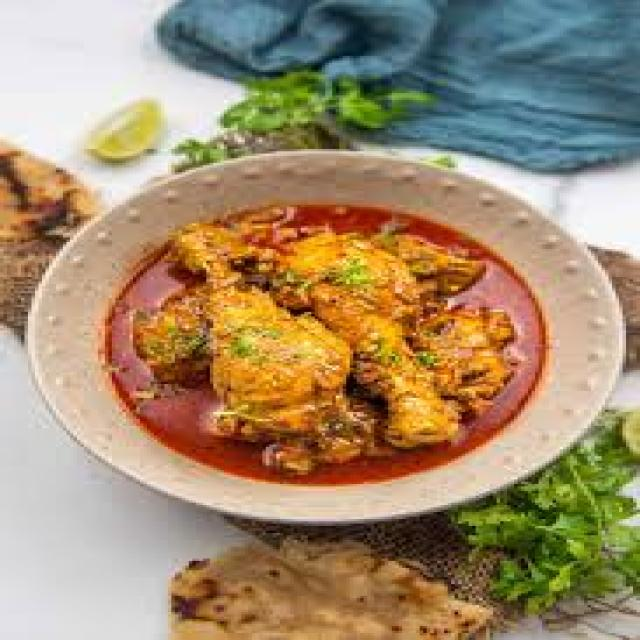Frango: (105, 202, 545, 493)
